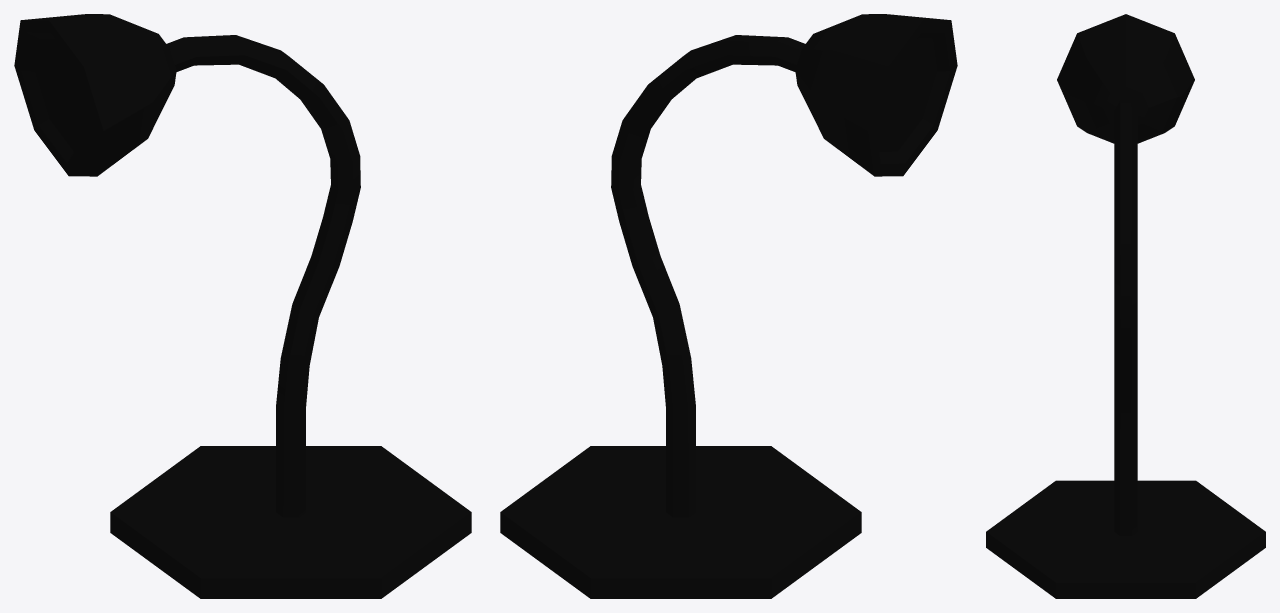
Rendered from FloorLampA_Off.glb.
3 renders of one model, left to right at view 1: azimuth 30°, elevation 25°; view 2: azimuth 150°, elevation 25°; view 3: azimuth 270°, elevation 25°, orthographic. The views are drawn at different scales.
Parts seen in each view (by area): view 1: FloorLampA_Off; view 2: FloorLampA_Off; view 3: FloorLampA_Off.
Part boxes in pixels (bbox=[...]): FloorLampA_Off: bbox=[14, 14, 471, 598]; FloorLampA_Off: bbox=[500, 14, 957, 598]; FloorLampA_Off: bbox=[986, 14, 1265, 598].
Bounding box in the file's own units: 1.01 × 1.46 × 0.8341.
Materials: 1 (1 with a texture image).
